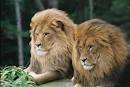lion: (73, 19, 128, 87), (26, 13, 76, 84)
